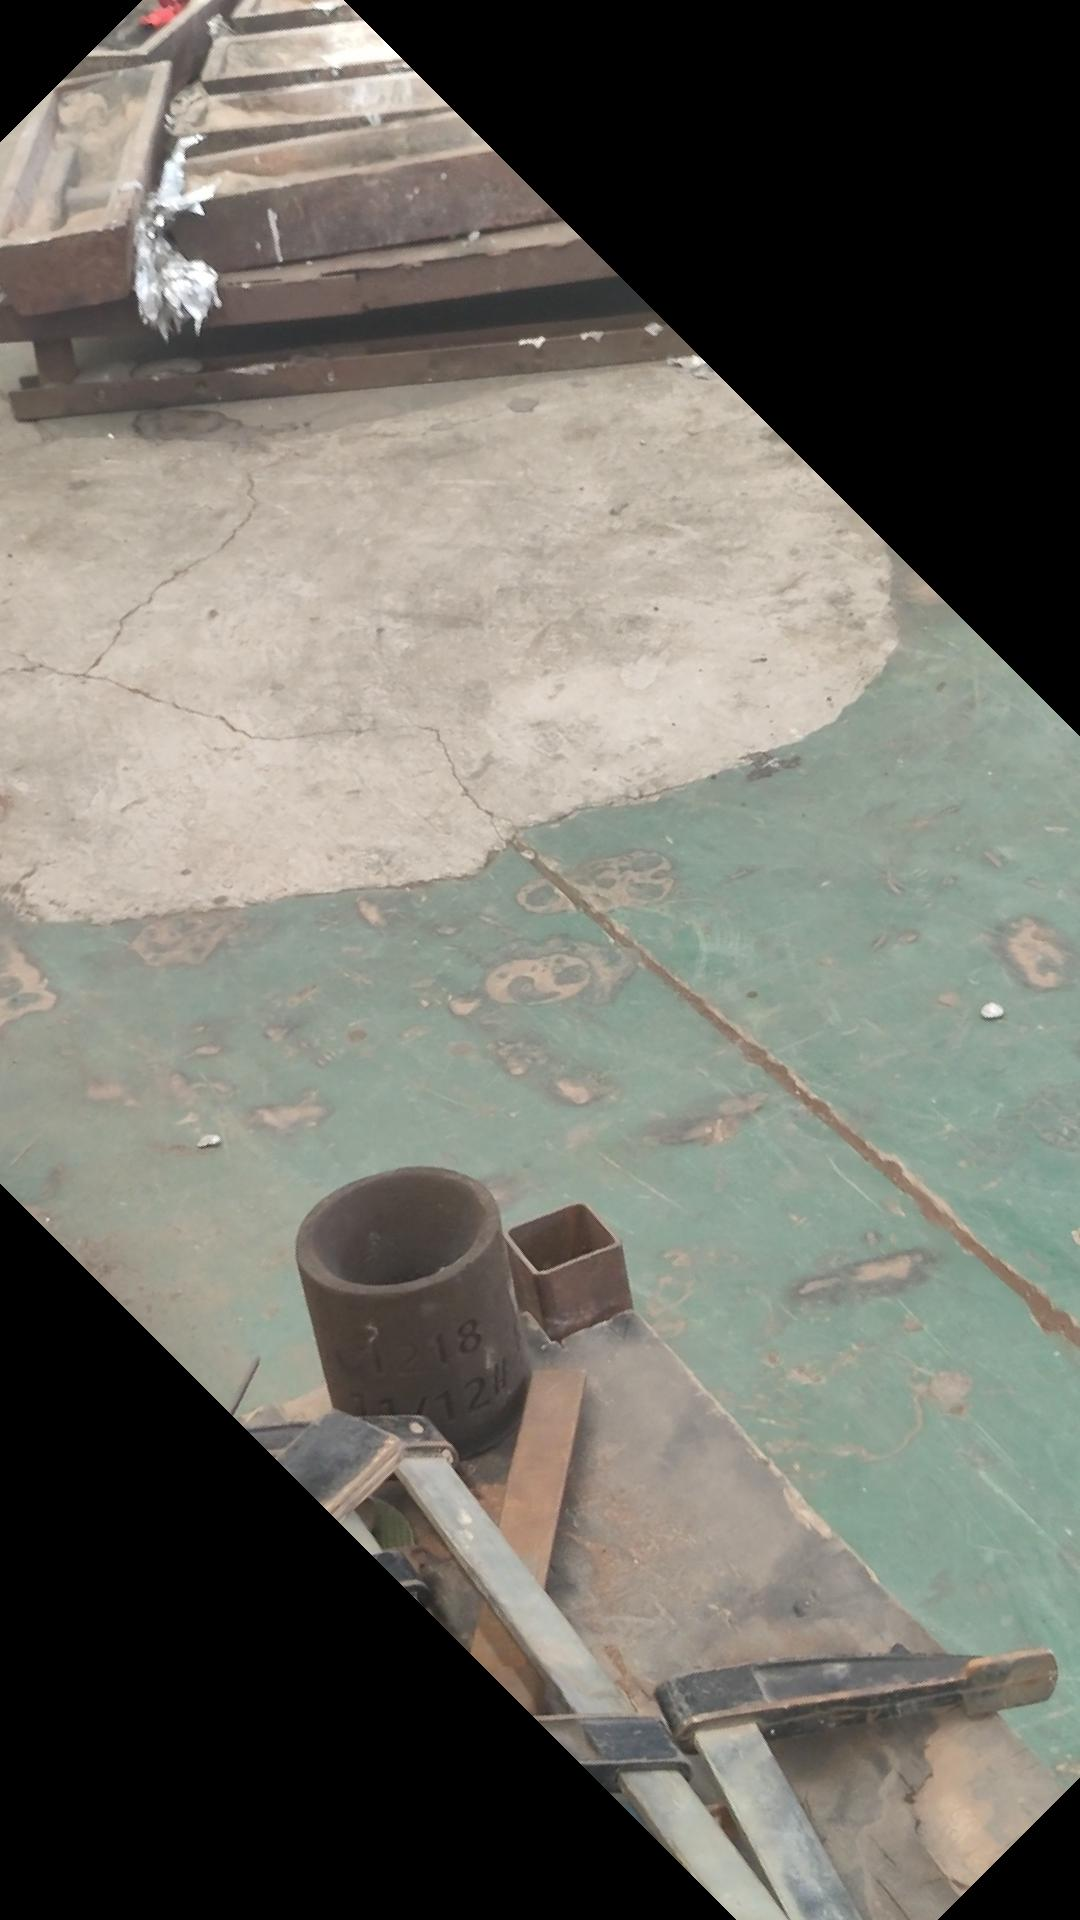pouring hole: (310, 1172, 485, 1286)
